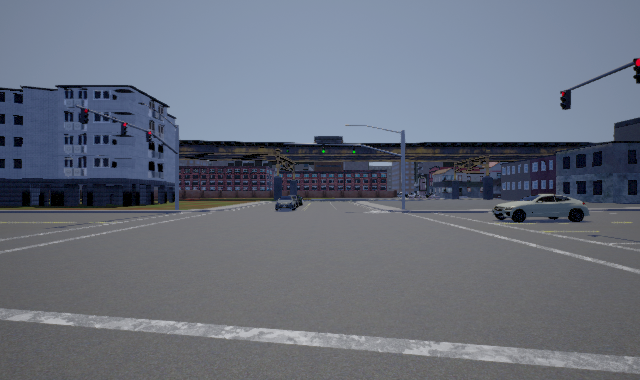traffic_light: (560, 90, 571, 110), (633, 58, 640, 84), (80, 108, 89, 124), (121, 122, 128, 135), (146, 131, 152, 142), (352, 145, 355, 154), (322, 144, 325, 153), (286, 144, 289, 153)
vehicle: (492, 194, 590, 223), (275, 195, 303, 211)
